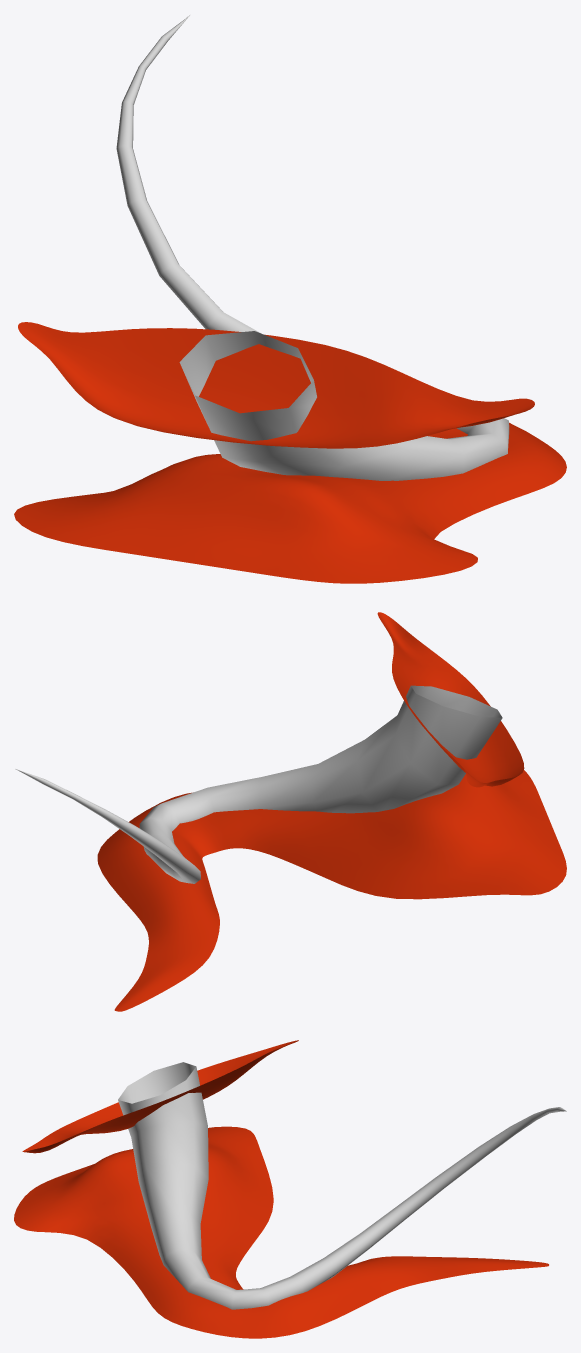
File: Roots_4.fbx
3 renders of one model, top to bottom at view 1: azimuth 30°, elevation 25°; view 2: azimuth 150°, elevation 25°; view 3: azimuth 270°, elevation 25°, orthographic. The views are drawn at different scales.
Parts seen in each view (by area): view 1: Gravel_4_LOD0, Root_4_LOD0; view 2: Gravel_4_LOD0, Root_4_LOD0; view 3: Gravel_4_LOD0, Root_4_LOD0.
Part boxes in pixels (<box>): Gravel_4_LOD0: <box>14,322,566,583</box>; Root_4_LOD0: <box>116,15,509,480</box>; Gravel_4_LOD0: <box>97,612,566,1011</box>; Root_4_LOD0: <box>15,685,502,883</box>; Gravel_4_LOD0: <box>14,1040,548,1338</box>; Root_4_LOD0: <box>118,1062,566,1309</box>.
Size of what is drawn, in the model's own units: 3228 by 1636 by 4276.
